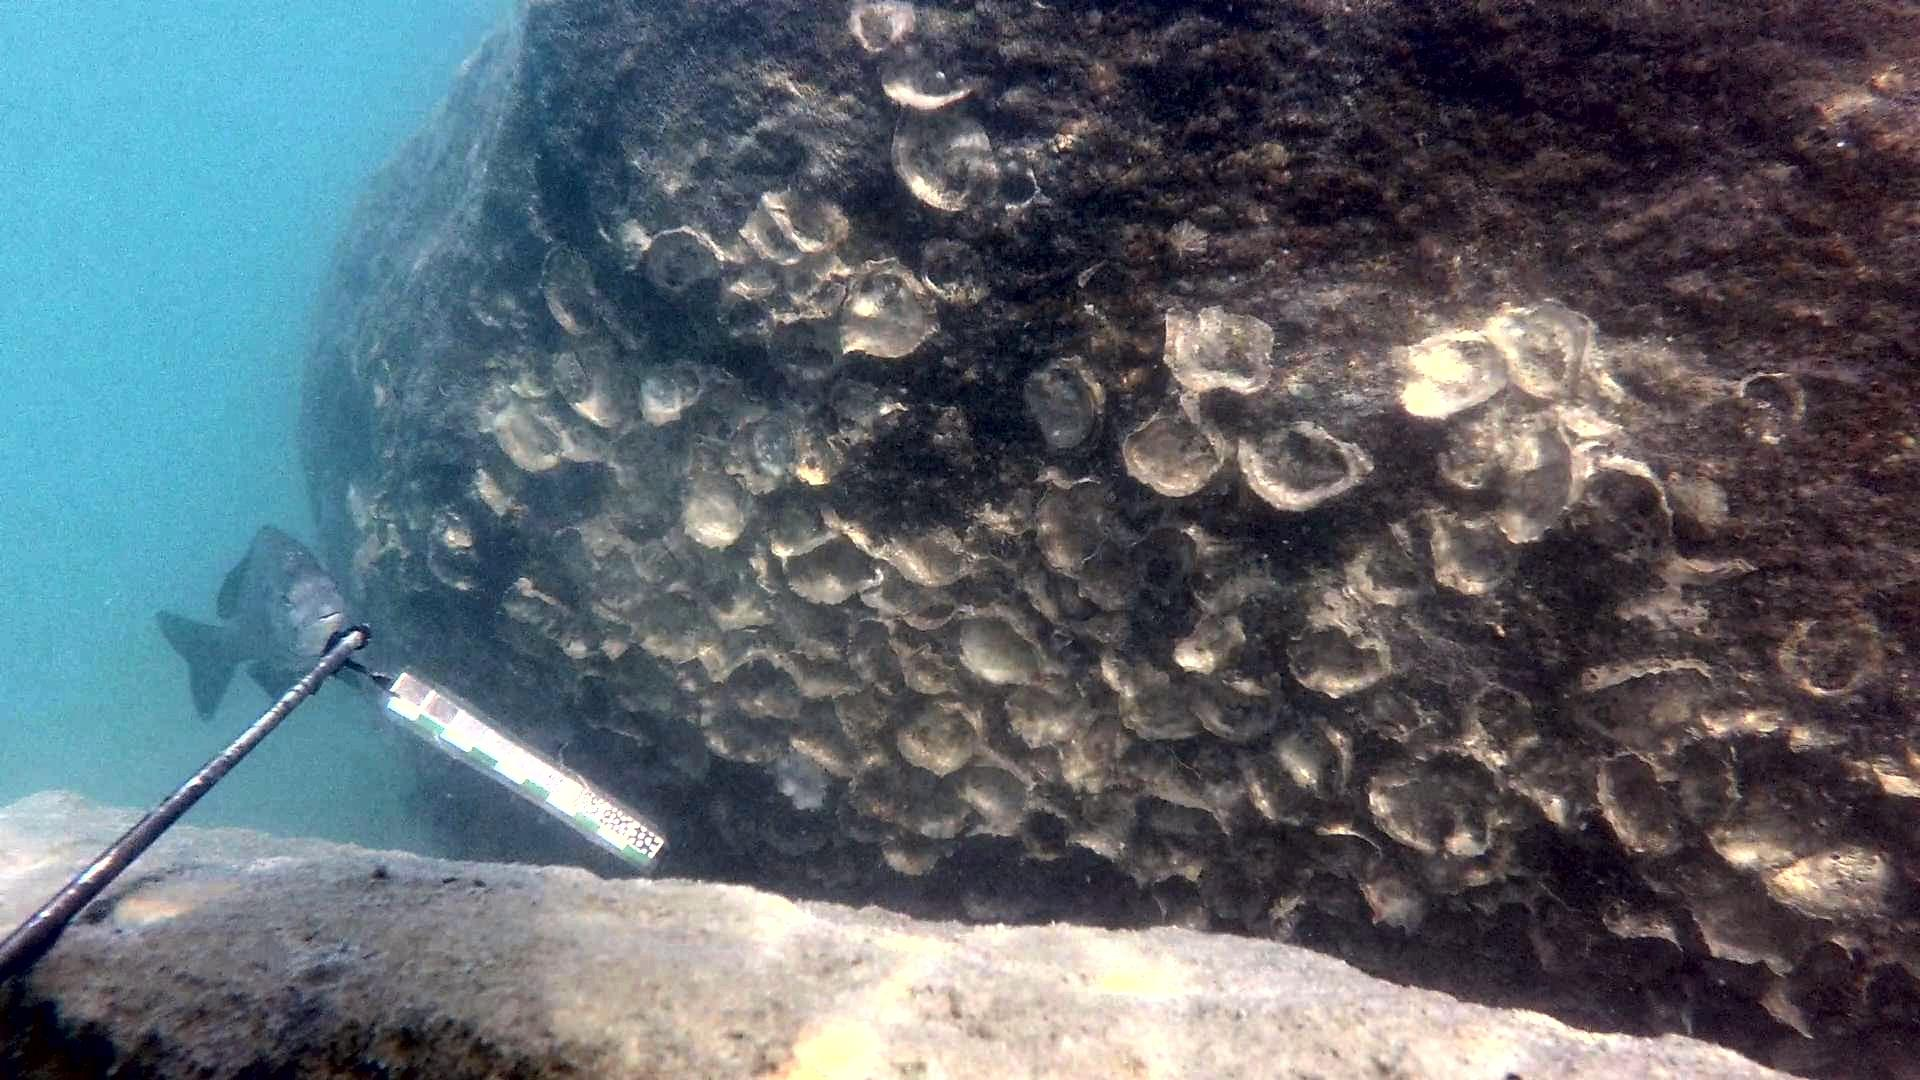acanthopagrus palmaris: (156, 520, 353, 728)
